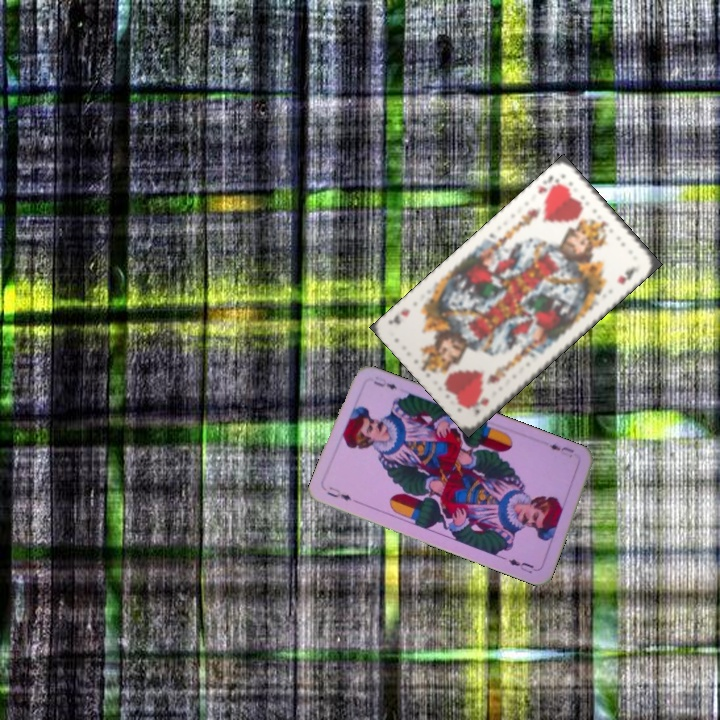EU: (323, 482, 362, 506), (545, 439, 577, 456)
HK: (534, 171, 563, 201), (471, 393, 492, 416)
